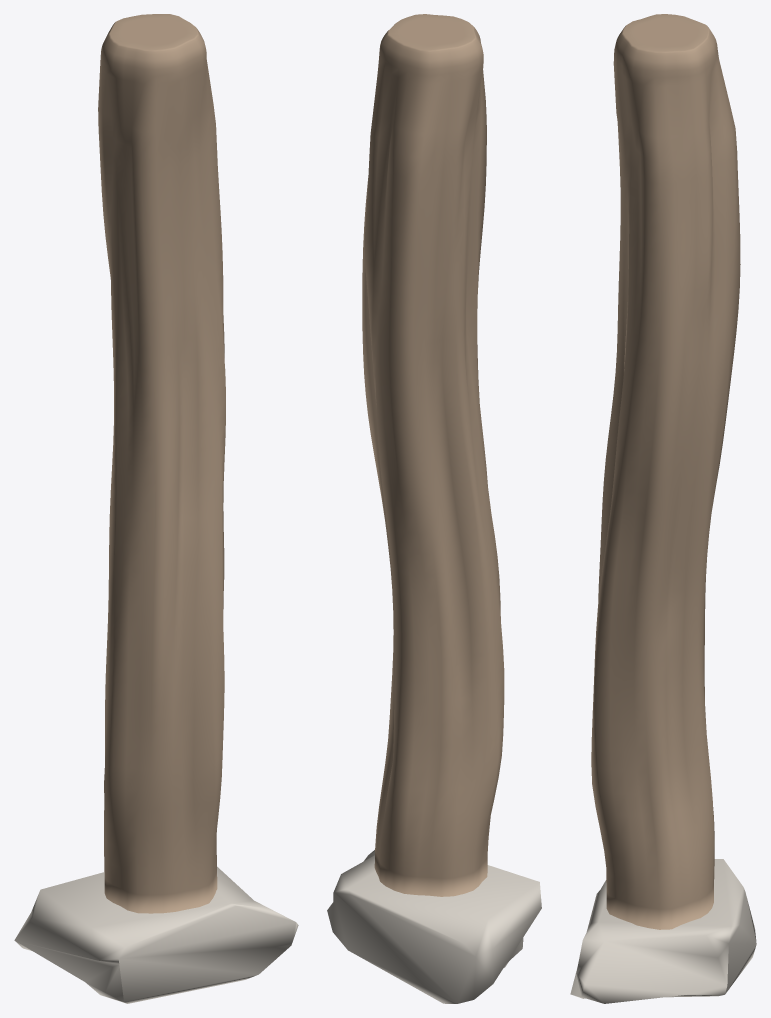
File: bagana-f2-3x11x3-v2.glb
3 views of the same model, side by side, from view 1: azimuth 30°, elevation 25°; view 2: azimuth 150°, elevation 25°; view 3: azimuth 270°, elevation 25° (orthographic). The views are drawn at different scales.
Visible parts, largest first — view 1: bagana_wood, bagana_stone; view 2: bagana_wood, bagana_stone; view 3: bagana_wood, bagana_stone.
Boxes of the visible parts, x1,y1,x2,y2 form: bagana_wood: (98,14,225,913); bagana_stone: (14,866,298,1003); bagana_wood: (362,14,504,896); bagana_stone: (327,850,541,1003); bagana_wood: (591,14,740,929); bagana_stone: (570,859,756,1003).
Bounding box in the file's own units: 0.6304 × 2.76 × 0.4895.
